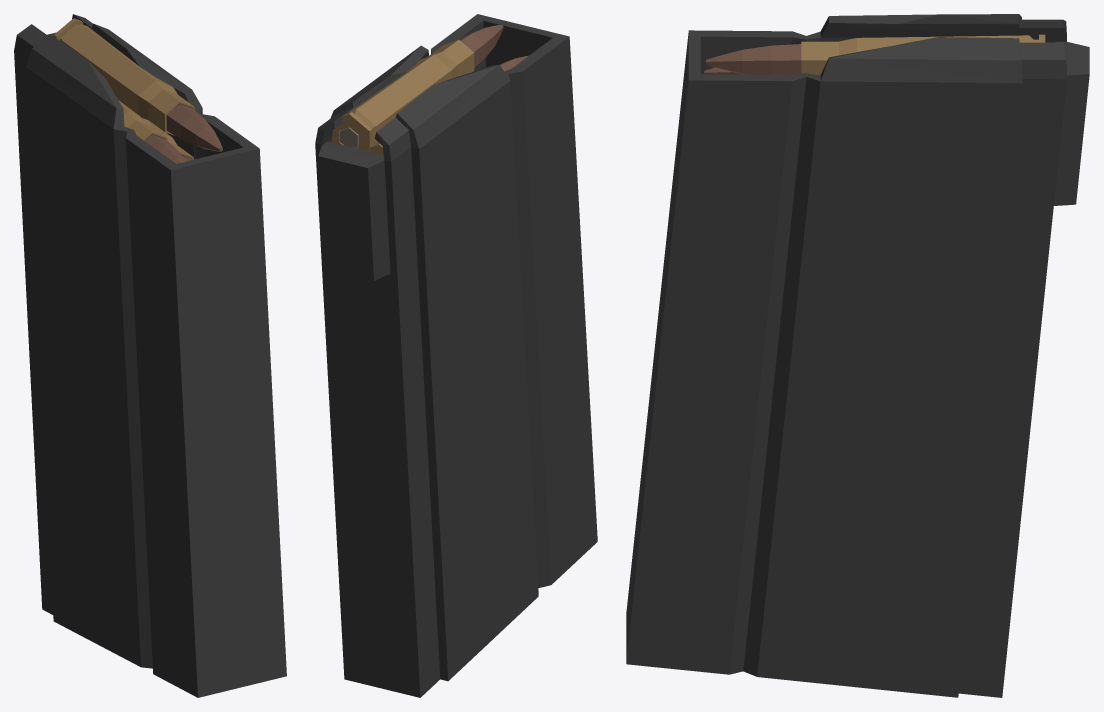
Rendered from SM_MK14_EBR_Magazine.fbx.
The picture shows the model from 3 angles, left to right: view 1: azimuth 30°, elevation 25°; view 2: azimuth 150°, elevation 25°; view 3: azimuth 270°, elevation 25°; orthographic projection. The views are drawn at different scales.
Parts seen in each view (by area): view 1: SM_MK14_EBR_Magazine; view 2: SM_MK14_EBR_Magazine; view 3: SM_MK14_EBR_Magazine.
Boxes of the visible parts, x1=… form: SM_MK14_EBR_Magazine: x1=14, y1=14, x2=286, y2=697; SM_MK14_EBR_Magazine: x1=315, y1=14, x2=597, y2=697; SM_MK14_EBR_Magazine: x1=626, y1=14, x2=1089, y2=697.
Bounding box in the file's own units: 1.89 × 11.53 × 7.43.
